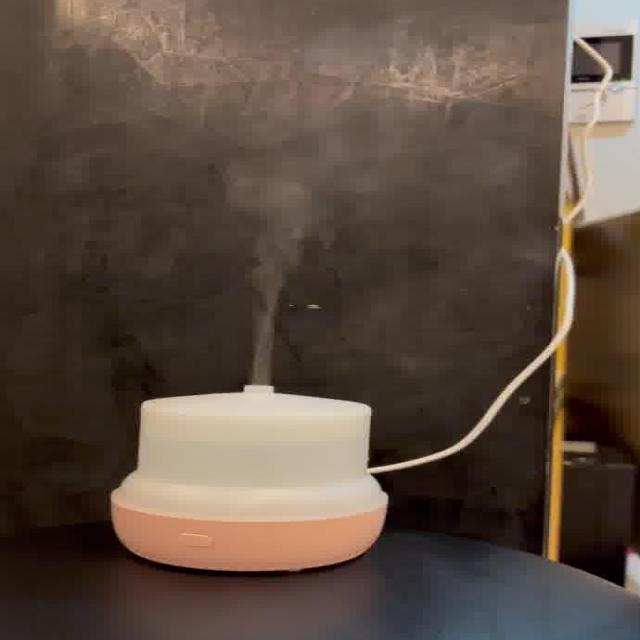fire: (228, 100, 469, 383)
